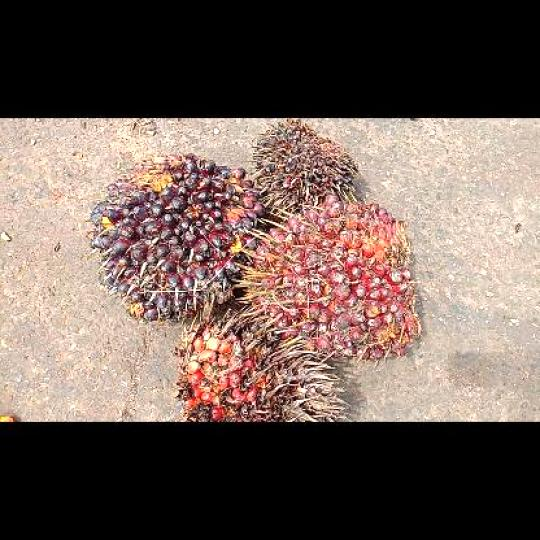kurang masak: (87, 154, 266, 324)
masak: (236, 191, 426, 360)
terlalu masak: (172, 304, 358, 420)
